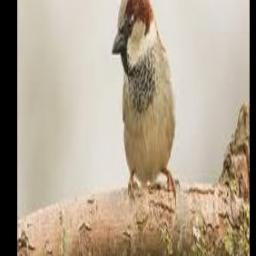Sparrow: (112, 0, 179, 207)
